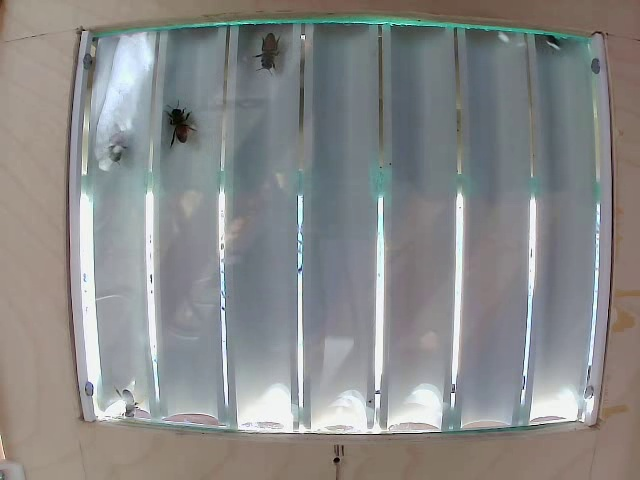bee: (168, 94, 203, 150), (256, 33, 282, 82)
